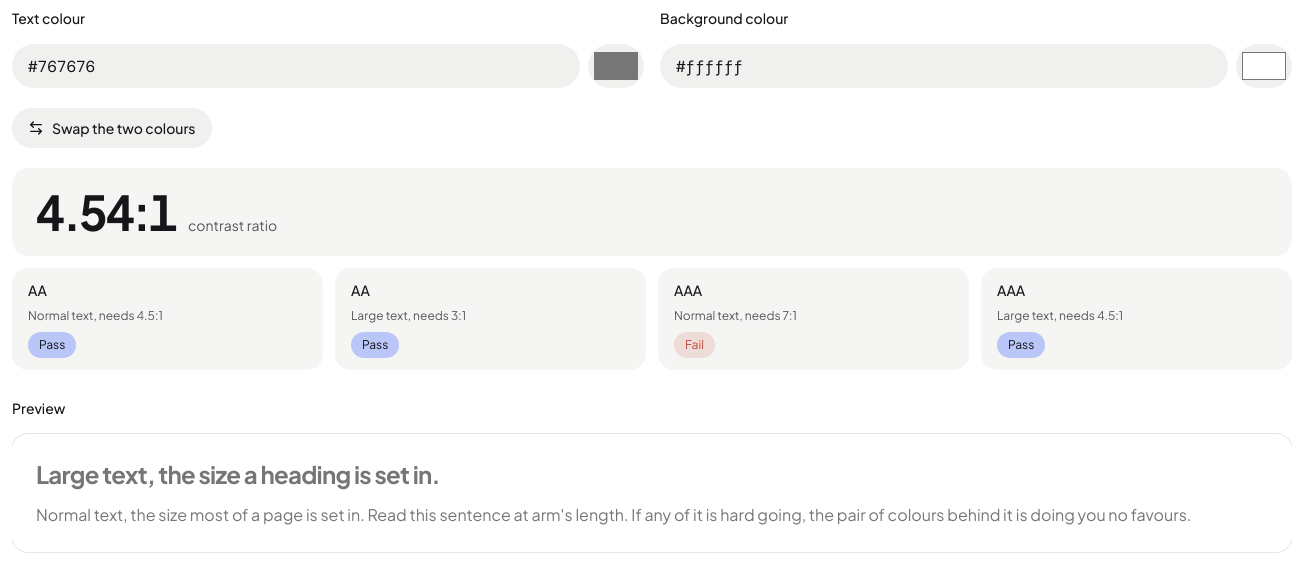
Test: <ContrastCheckerTool /> › should rate the pair the user enters, and swap them round
In the field named "Text colour": x=296, y=66 12,44 -> 580,88, type "#000000"
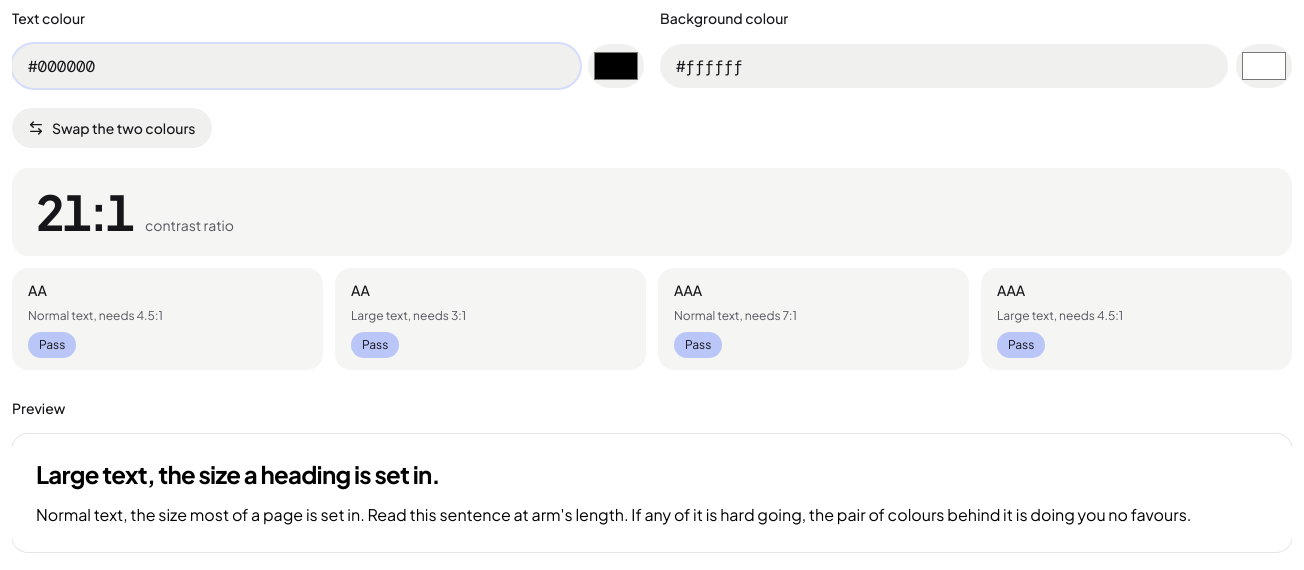
Expected: the text "Pass" is shown 4 times, 28,332 -> 76,358; 351,332 -> 399,358; 674,332 -> 722,358; 997,332 -> 1045,358
Expected: the text "21:1" is shown, 36,188 -> 133,236
Click the button "Swap the two colours": x=112, y=128 12,108 -> 212,148
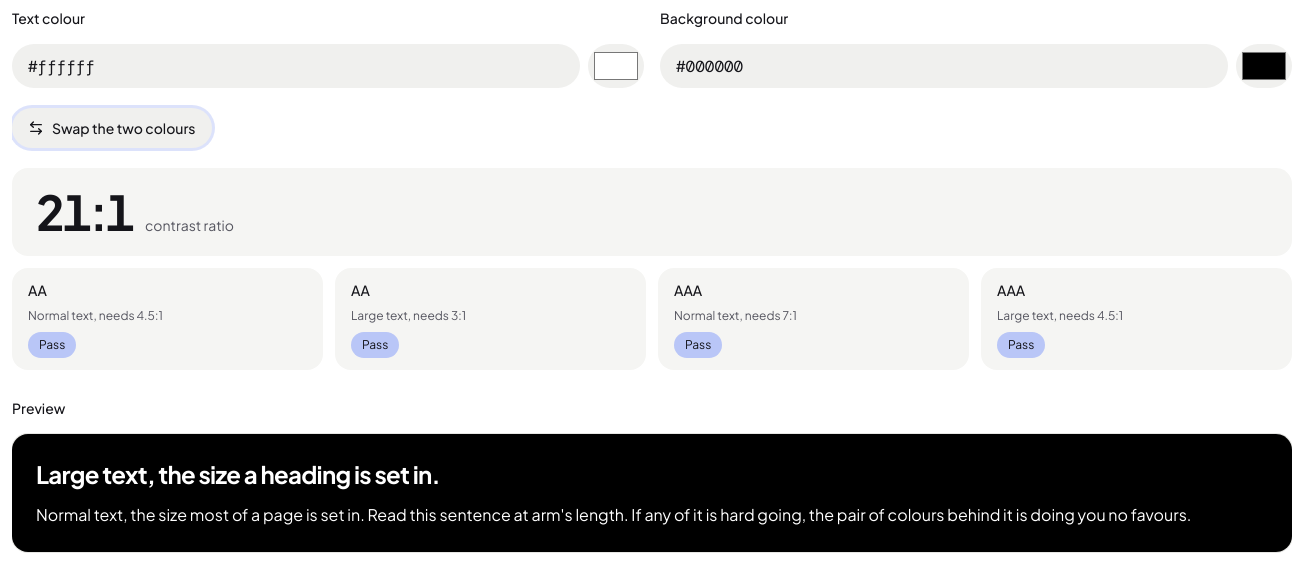
Expected: the text "21:1" is shown, 36,188 -> 133,236
Expected: the field named "Text colour" holds "#ffffff", 12,44 -> 580,88
Expected: the field named "Background colour" holds "#000000", 660,44 -> 1228,88
